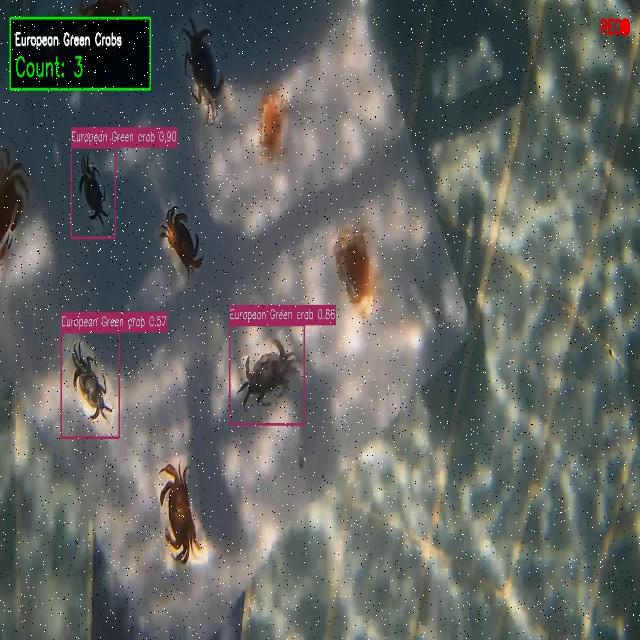European_Green_Crab: (171, 10, 232, 132), (228, 330, 303, 422), (61, 334, 123, 439), (70, 143, 117, 233)
